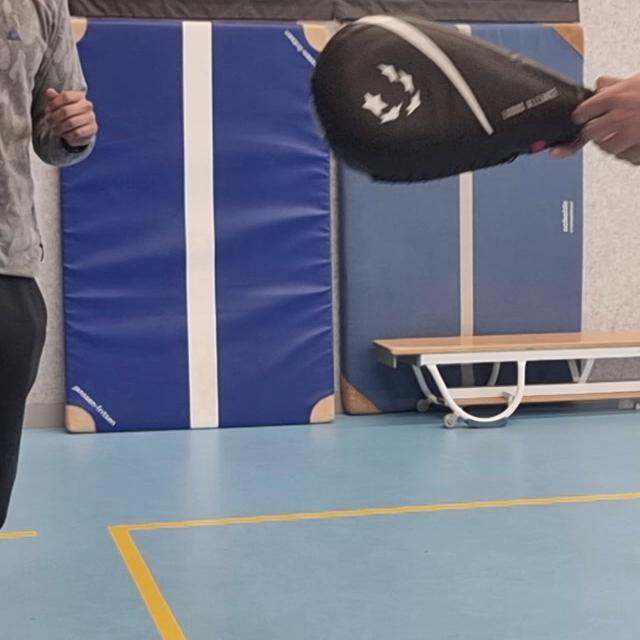paddle: (315, 17, 603, 179)
